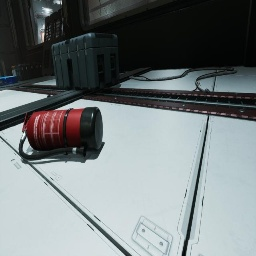FireExtinguisher ]: (19, 107, 103, 161)
